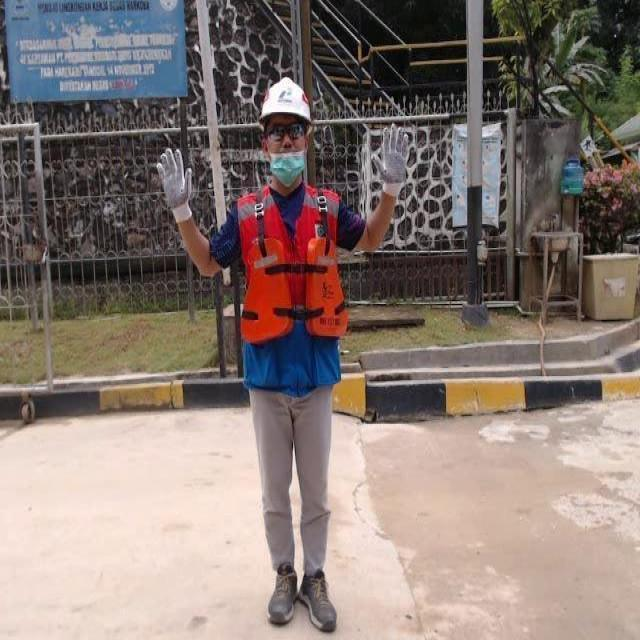white helmet: (258, 74, 326, 124)
